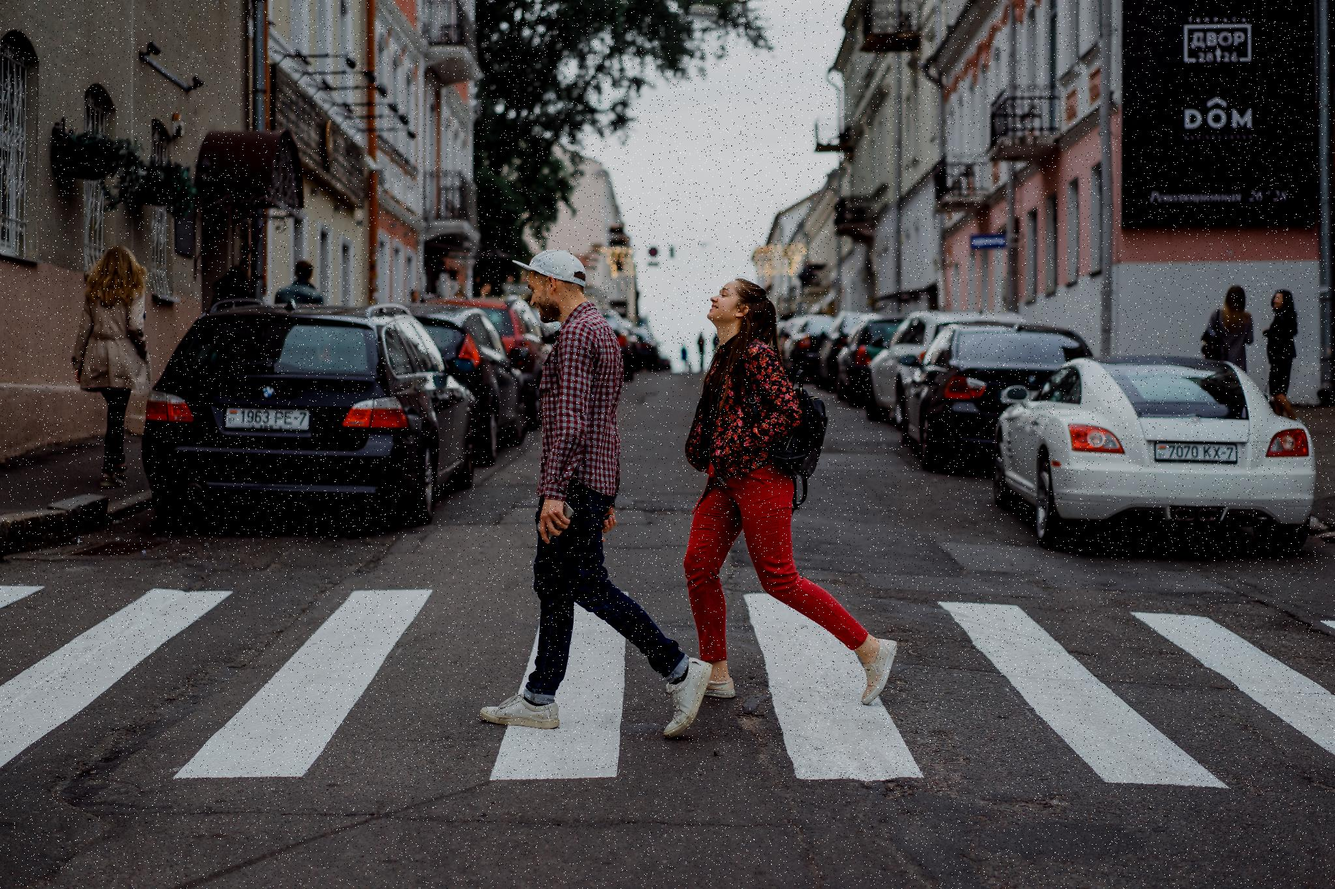car: (146, 301, 486, 527), (990, 350, 1318, 549), (901, 328, 1105, 474), (865, 307, 1024, 424), (412, 308, 527, 464), (417, 298, 550, 378), (833, 319, 912, 408), (783, 317, 839, 389), (821, 314, 887, 365)
pedestrian: (477, 233, 712, 740), (691, 285, 910, 717), (67, 247, 146, 493), (1205, 288, 1257, 374), (1262, 289, 1298, 405), (272, 261, 324, 309)
